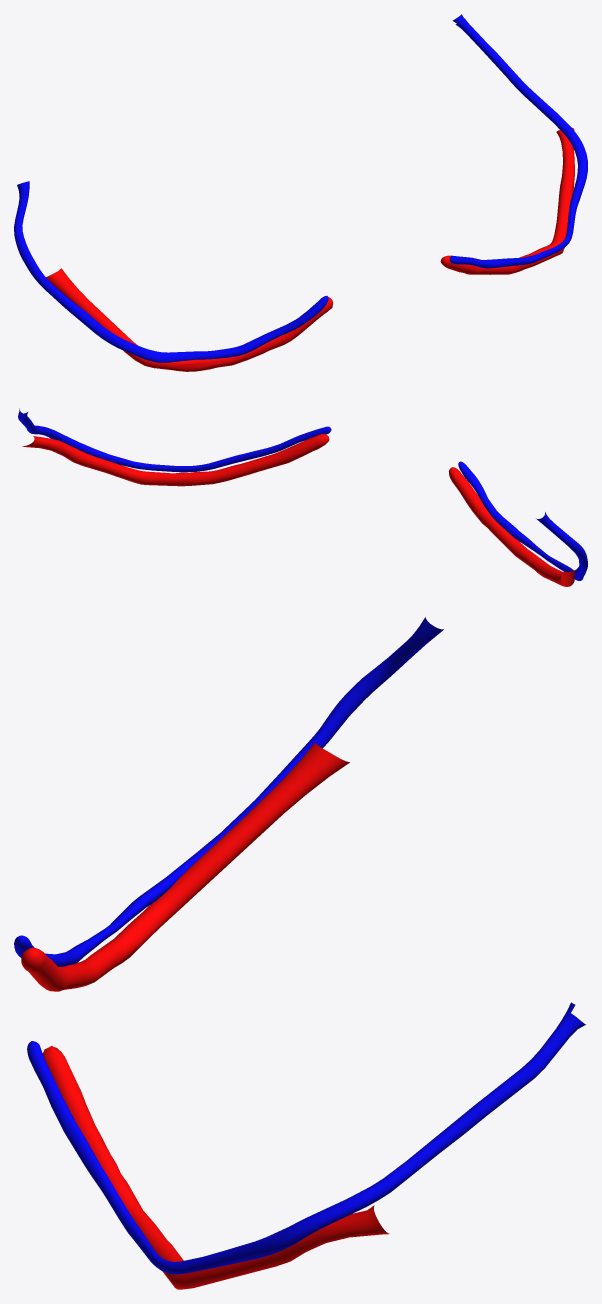
File: uterus_vessels.glb
3 views of the same model, one above another, from view 1: azimuth 30°, elevation 25°; view 2: azimuth 150°, elevation 25°; view 3: azimuth 270°, elevation 25° (orthographic). The views are drawn at different scales.
Visible parts, largest first — view 1: VH_F_left_uterine_vein, VH_F_left_uterine_artery; view 2: VH_F_left_uterine_artery, VH_F_left_uterine_vein; view 3: VH_F_left_uterine_vein, VH_F_left_uterine_artery.
Boxes of the visible parts, box(x1,y1,x2,y2) form: VH_F_left_uterine_vein: box(14, 14, 587, 362); VH_F_left_uterine_artery: box(46, 128, 574, 371); VH_F_left_uterine_artery: box(22, 434, 575, 586); VH_F_left_uterine_vein: box(18, 408, 587, 580); VH_F_left_uterine_vein: box(14, 617, 585, 1274); VH_F_left_uterine_artery: box(21, 742, 389, 1289).
Bounding box in the file's own units: 0.1222 × 0.0353 × 0.0587.
